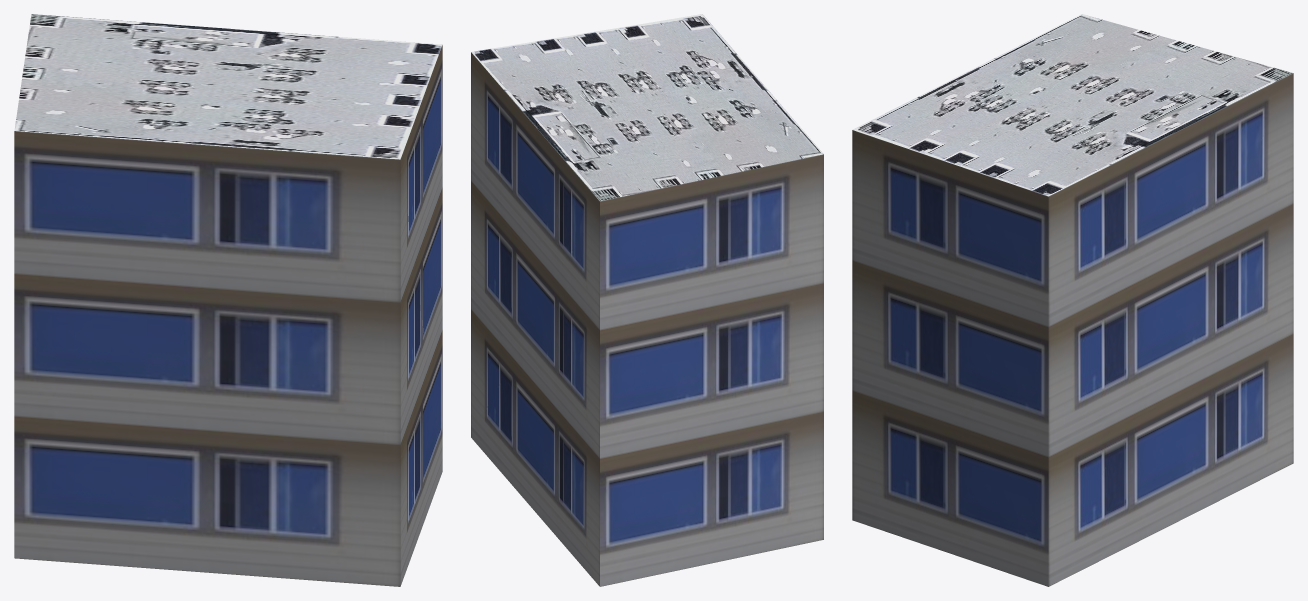
The model's file is ResTex__3298.fbx.
The picture shows the model from 3 angles, left to right: view 1: azimuth 30°, elevation 25°; view 2: azimuth 150°, elevation 25°; view 3: azimuth 270°, elevation 25°; orthographic projection. The views are drawn at different scales.
Visible parts, largest first — view 1: CityEngineMaterial_23_m, CityEngineMaterial_4_m; view 2: CityEngineMaterial_23_m, CityEngineMaterial_4_m; view 3: CityEngineMaterial_23_m, CityEngineMaterial_4_m.
Boxes of the visible parts, bbox=[...] form: CityEngineMaterial_23_m: bbox=[14, 45, 442, 586]; CityEngineMaterial_4_m: bbox=[14, 14, 442, 159]; CityEngineMaterial_23_m: bbox=[471, 52, 823, 586]; CityEngineMaterial_4_m: bbox=[471, 14, 823, 201]; CityEngineMaterial_23_m: bbox=[852, 73, 1293, 586]; CityEngineMaterial_4_m: bbox=[853, 14, 1292, 196].
Bounding box in the file's own units: 9.03 × 9 × 9.22.
Materials: 2 (2 with a texture image).
